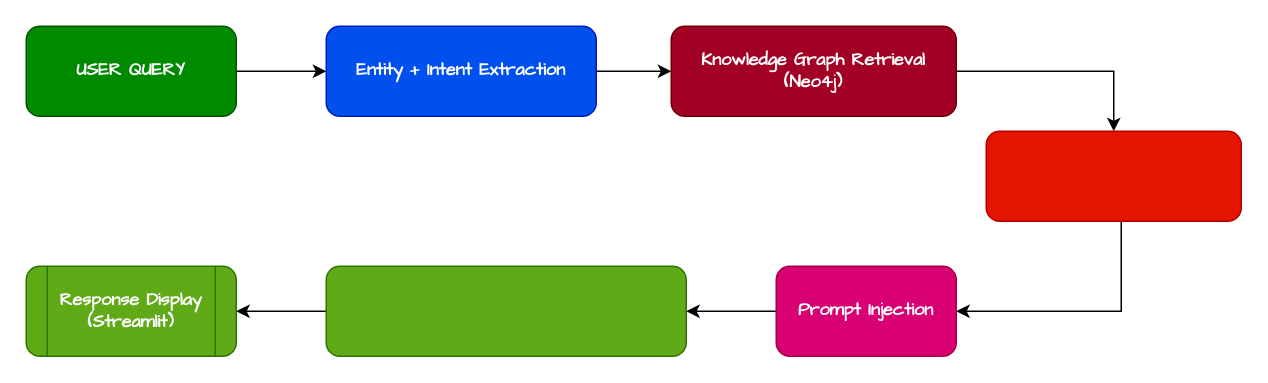
Image size: 1268x383. Some labels were removed from this diagram. Here are the shapes that lost their labels. From the top down, the box of each, then its label:
(985, 130, 1241, 221): Context Augmentation (FAISS Memory)
(325, 265, 686, 356): LLaMA 3B via HF Inference API
